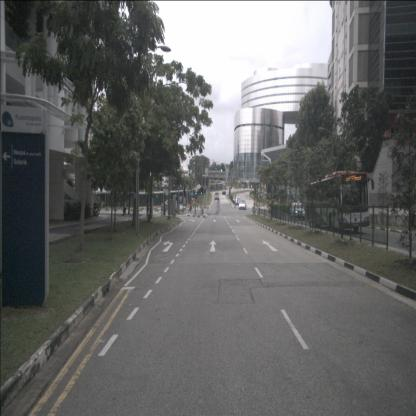human-pedestrian-adult: (146, 199, 150, 217), (160, 201, 164, 217), (164, 200, 166, 217), (124, 199, 126, 215), (190, 201, 192, 214), (197, 200, 199, 211), (192, 198, 194, 208)
vehicle-bus-rigid: (309, 171, 370, 233)
vehicle-car: (289, 202, 306, 220), (160, 199, 176, 212), (238, 198, 246, 210), (237, 197, 243, 205), (235, 196, 240, 204), (215, 192, 219, 200)
